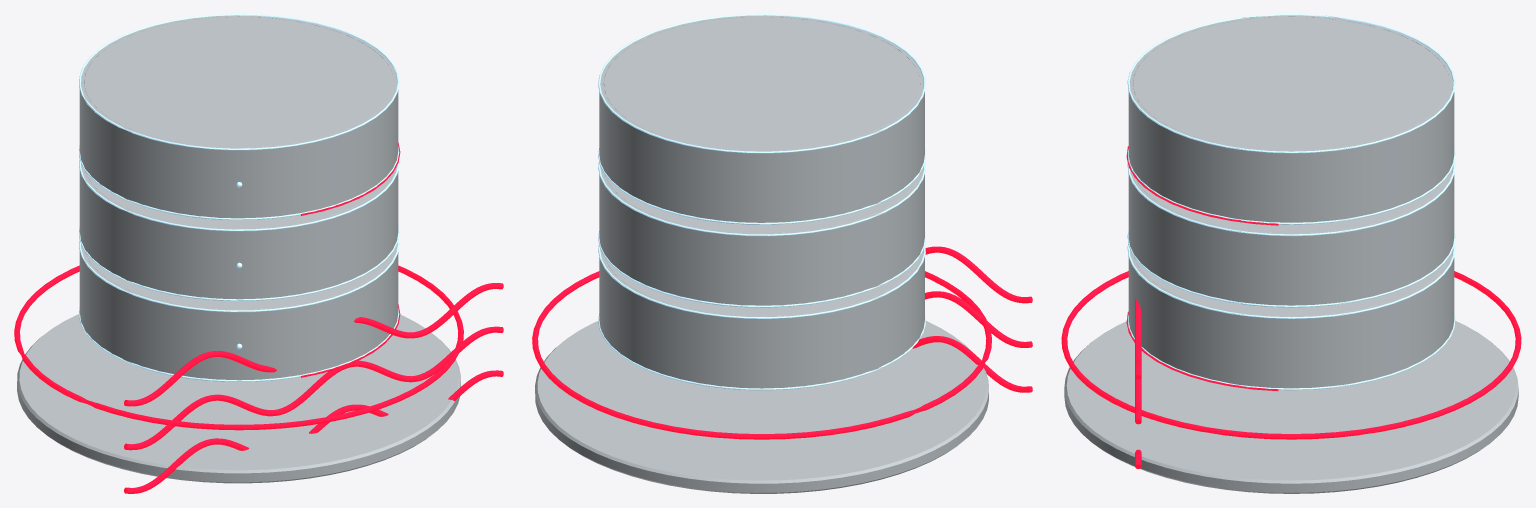
Rendered from 34-lakehouse.glb.
3 renders of one model, left to right at view 1: azimuth 30°, elevation 25°; view 2: azimuth 150°, elevation 25°; view 3: azimuth 270°, elevation 25°, orthographic. The views are drawn at different scales.
Parts seen in each view (by area): view 1: BC thin clear technical glass, BC ruby signal edge, BC cool glass edge; view 2: BC thin clear technical glass, BC ruby signal edge, BC cool glass edge; view 3: BC thin clear technical glass, BC cool glass edge, BC ruby signal edge.
Boxes of the visible parts, x1=… form: BC thin clear technical glass: x1=17, y1=15, x2=460, y2=483; BC ruby signal edge: x1=14, y1=142, x2=503, y2=493; BC cool glass edge: x1=79, y1=14, x2=399, y2=381; BC thin clear technical glass: x1=535, y1=15, x2=988, y2=493; BC ruby signal edge: x1=532, y1=246, x2=1032, y2=439; BC cool glass edge: x1=598, y1=14, x2=925, y2=390; BC thin clear technical glass: x1=1064, y1=15, x2=1518, y2=493; BC cool glass edge: x1=1127, y1=14, x2=1455, y2=390; BC ruby signal edge: x1=1061, y1=146, x2=1521, y2=468.
Size of the model in its own units: 1.86 by 1.44 by 1.86.
